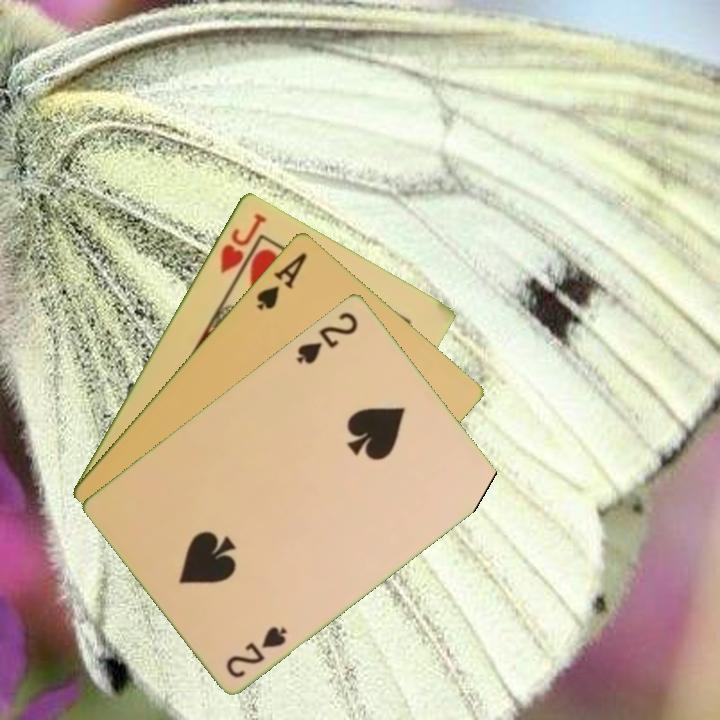2s: (292, 307, 361, 367), (222, 622, 291, 681)
As: (252, 248, 310, 313)
Jh: (216, 209, 269, 276)
